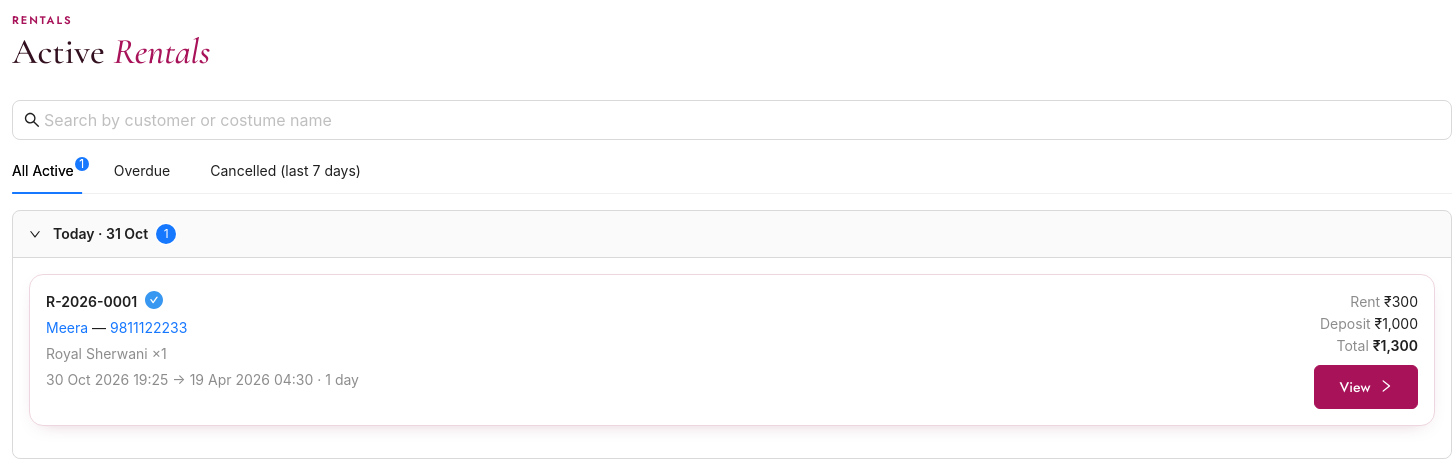
Test: ReceiptsPage cancelled tab (#166) › shows an error instead of an empty list when the cancelled receipts fail to load
The width and height of the screenshot is (1452, 476).
Click the tab "Cancelled (last 7 days)".
click(290, 171)  # box x1=210 y1=160 x2=369 y2=182
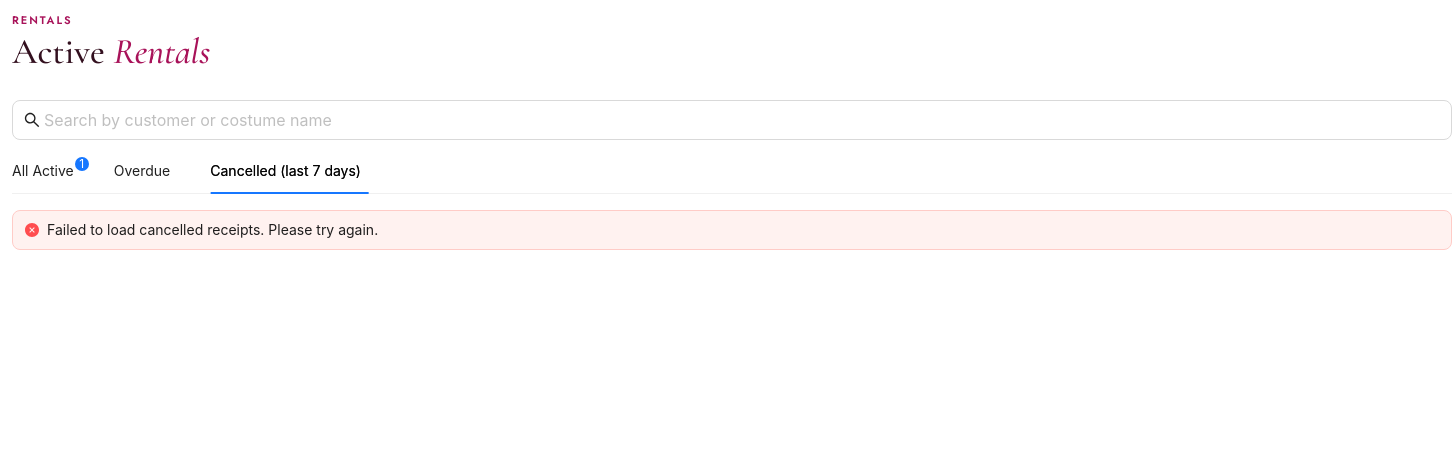
Expected: the text "Failed to load cancelled receipts. Please try again." is shown, x1=47 y1=221 x2=378 y2=238
